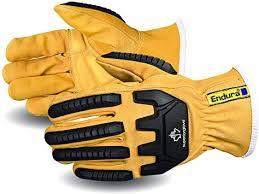gloves: (43, 67, 253, 181), (2, 1, 182, 117)
